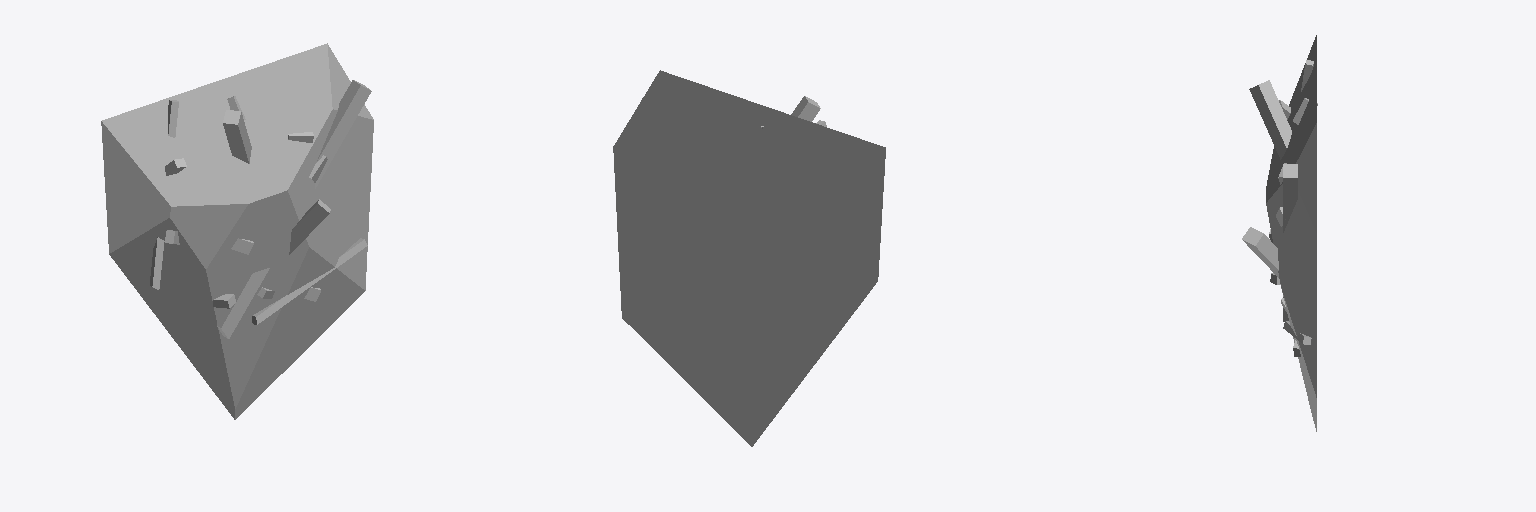
File: rubblepile_2.obj
3 views of the same model, side by side, from view 1: azimuth 30°, elevation 25°; view 2: azimuth 150°, elevation 25°; view 3: azimuth 270°, elevation 25° (orthographic).
Visible parts, largest first — view 1: default; view 2: default; view 3: default.
Part boxes in pixels (x1,y1,x2,y2): default: (101,43,373,419); default: (613,70,885,446); default: (1242,35,1317,431).
Bounding box in the file's own units: 379 × 470 × 92.34.